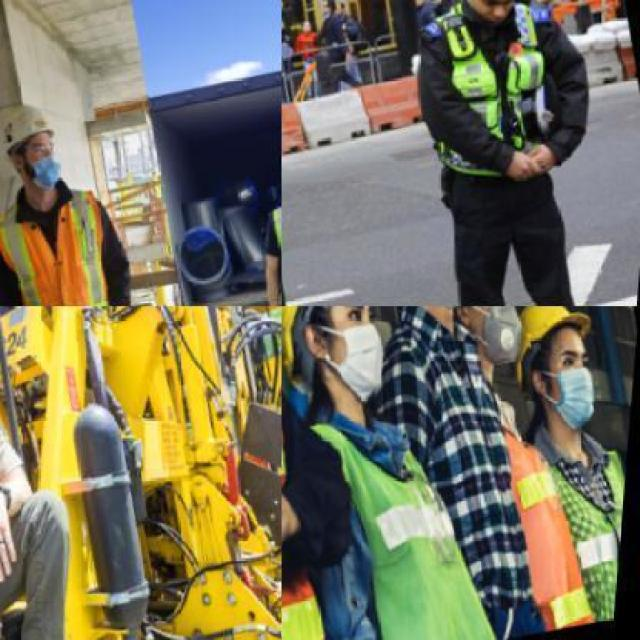Vest: (294, 371, 518, 638), (474, 394, 617, 628), (281, 306, 377, 639), (420, 0, 586, 189), (520, 398, 635, 608), (0, 172, 148, 305)
